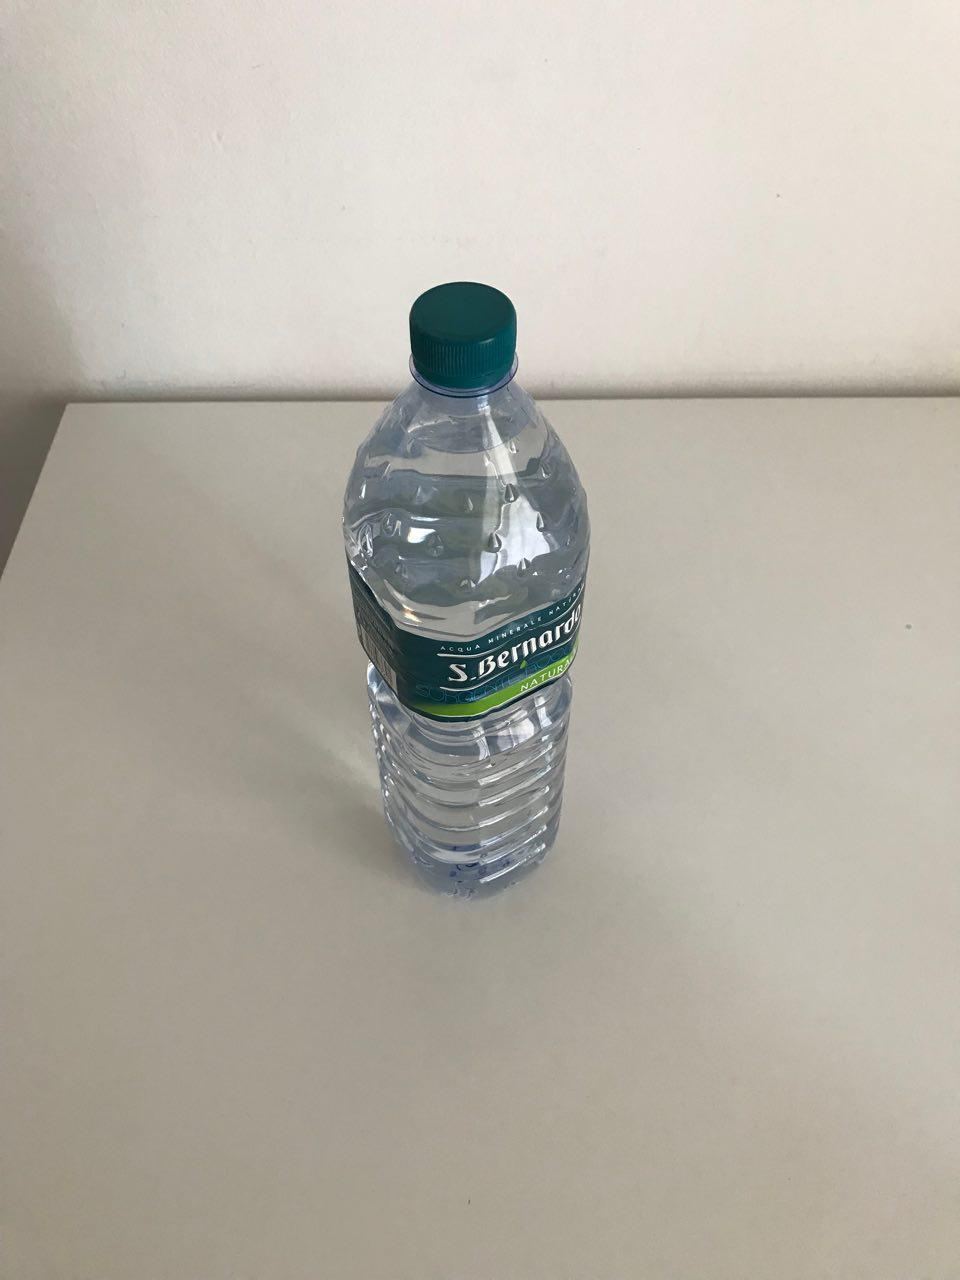san_bernardo: (340, 278, 591, 904)
